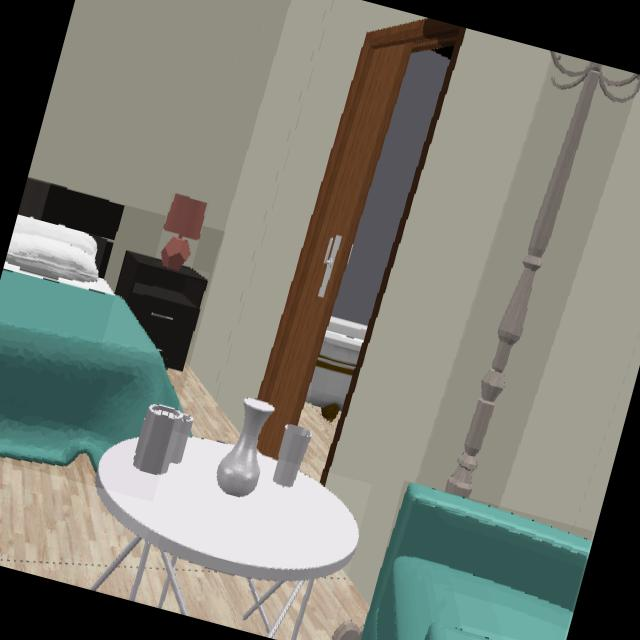bed: (0, 179, 178, 469)
lamp: (160, 194, 206, 270)
nighttable: (116, 252, 206, 370)
pillow: (5, 215, 97, 283)
sofa: (361, 483, 591, 640)
table: (91, 438, 358, 640)
